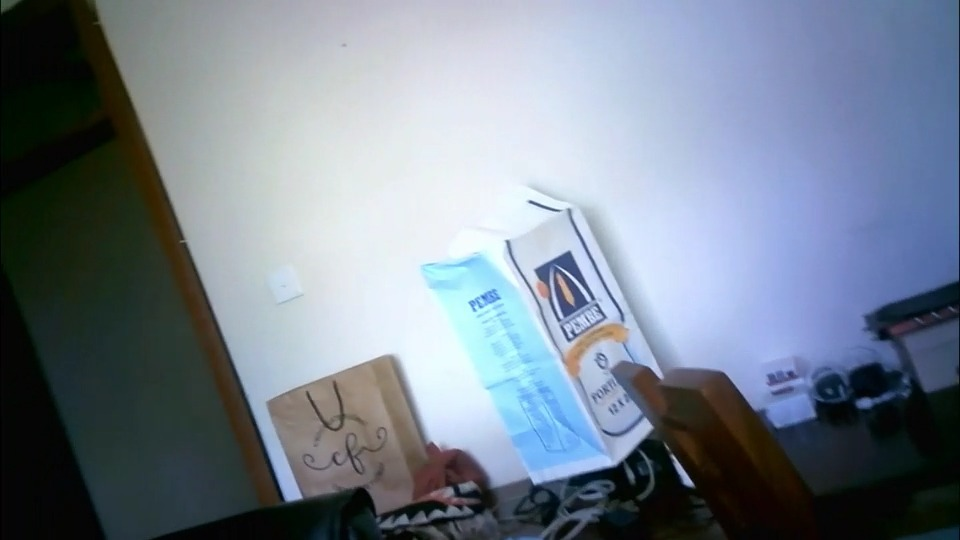wheat_flour_blue_label: (419, 183, 664, 478)
